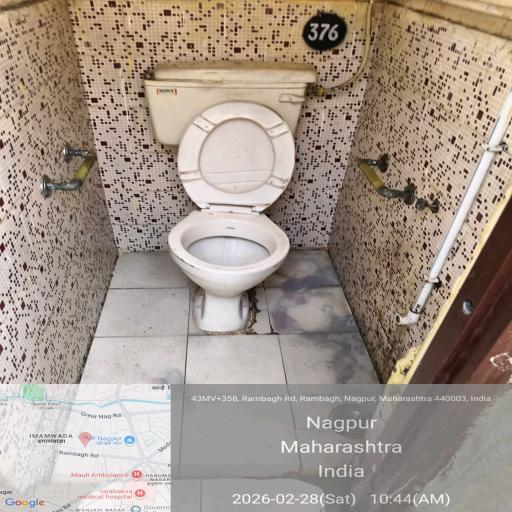clean_floor: (75, 308, 427, 512)
clean_western: (130, 33, 334, 356)
